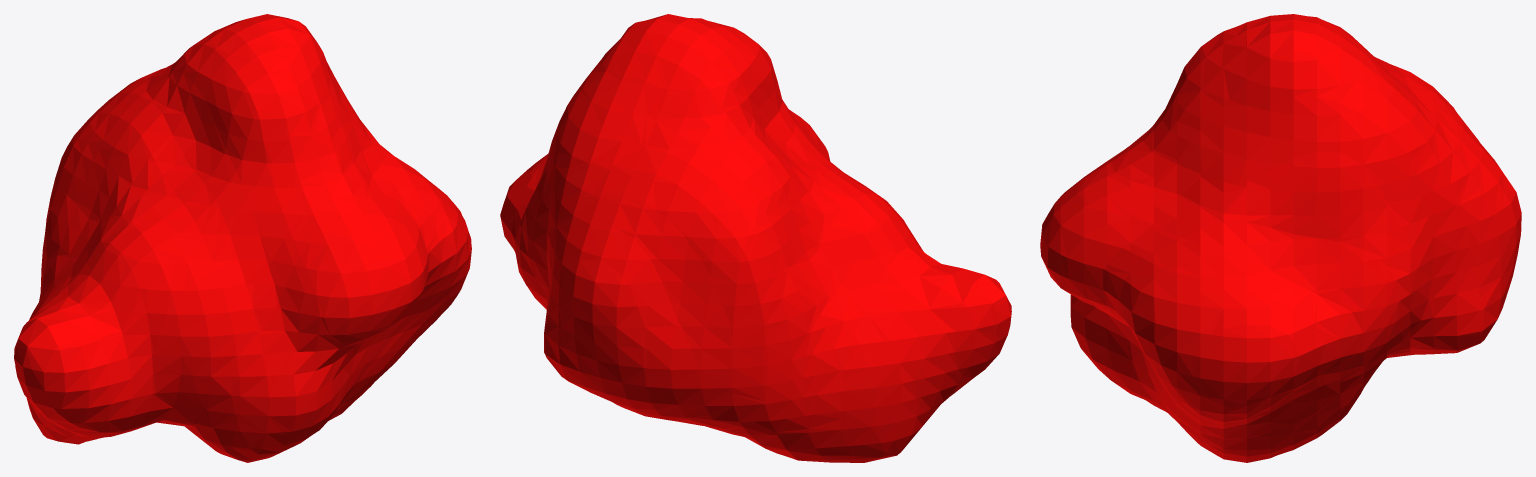
File: yccJ_coarse.dae
3 renders of one model, left to right at view 1: azimuth 30°, elevation 25°; view 2: azimuth 150°, elevation 25°; view 3: azimuth 270°, elevation 25°, orthographic. The views are drawn at different scales.
Parts seen in each view (by area): view 1: yccJ; view 2: yccJ; view 3: yccJ.
Part boxes in pixels (<box>): yccJ: <box>14,14,471,462</box>; yccJ: <box>500,14,1011,462</box>; yccJ: <box>1040,14,1521,462</box>.
Size of the model in its own units: 41.01 by 33.39 by 34.2.
